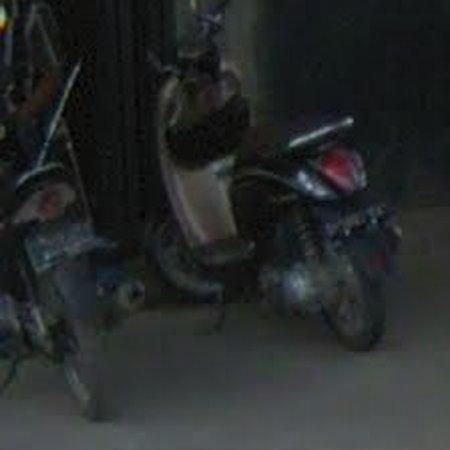motorcycles: (140, 0, 401, 355), (0, 57, 128, 417)
